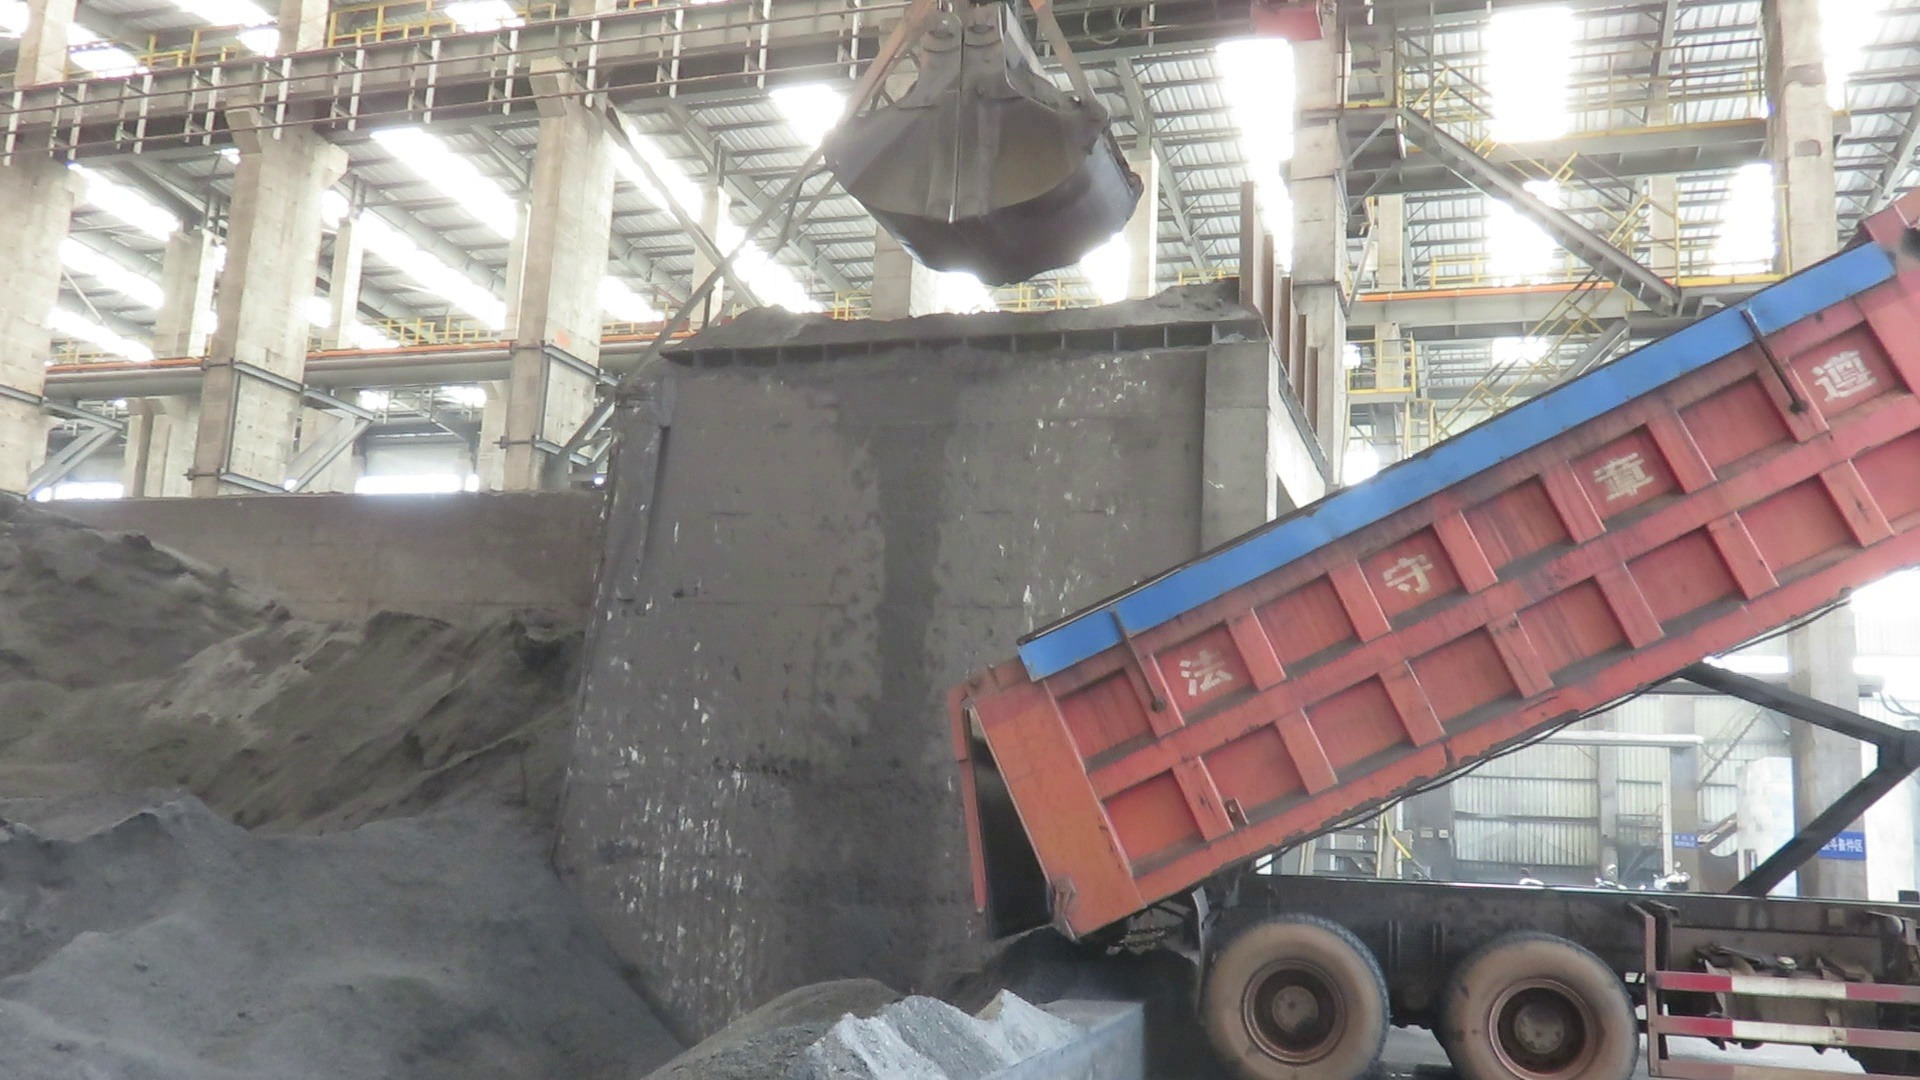grab: (816, 0, 1149, 294)
truck: (932, 191, 1920, 1080)
